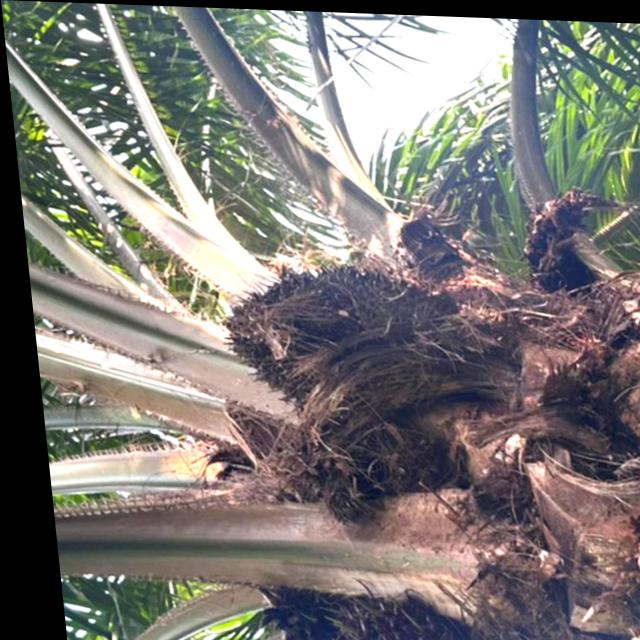unripe: (200, 255, 460, 406), (298, 580, 468, 640)
